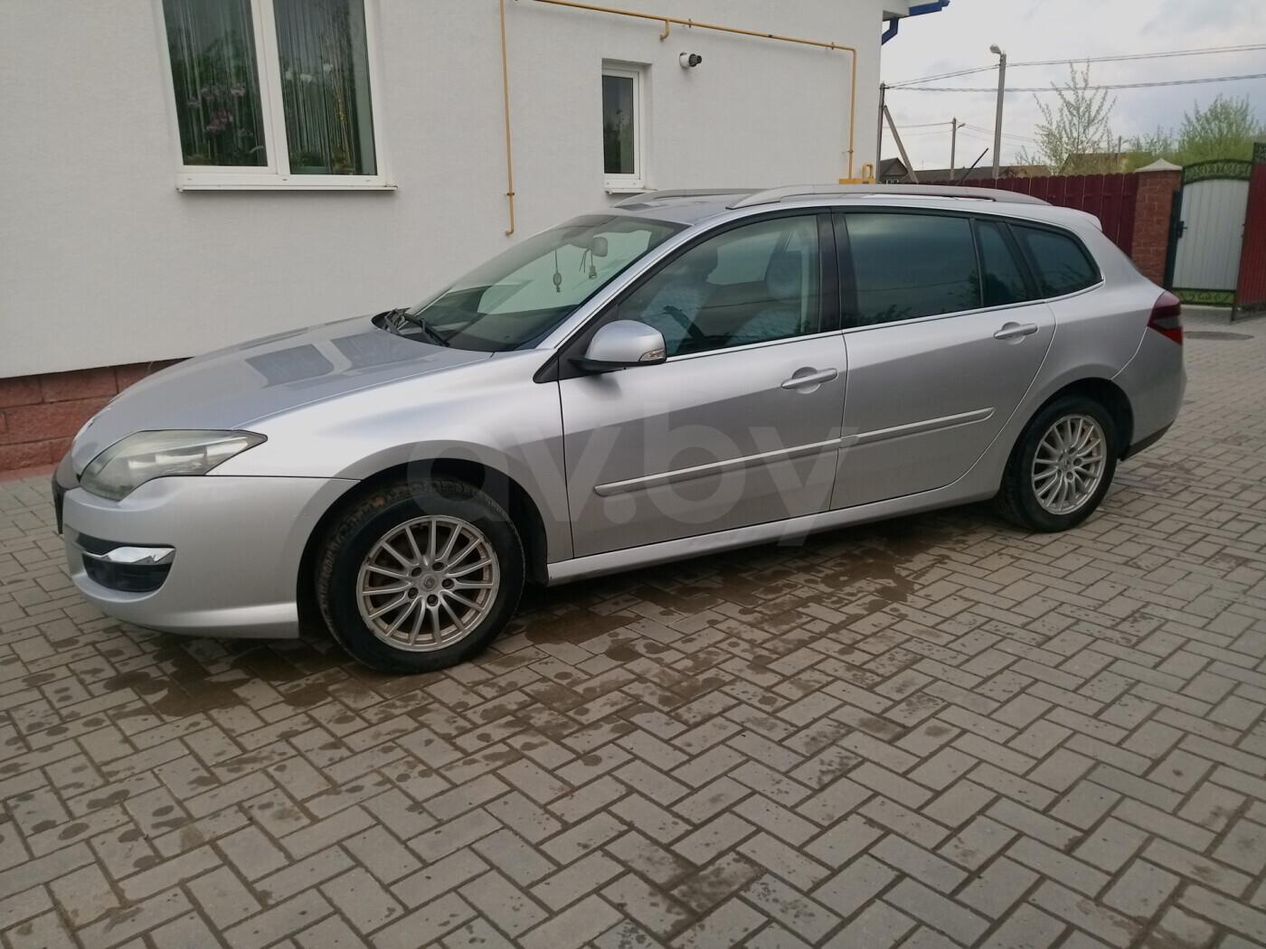Laguna_2010-2015: (52, 178, 1192, 669)
